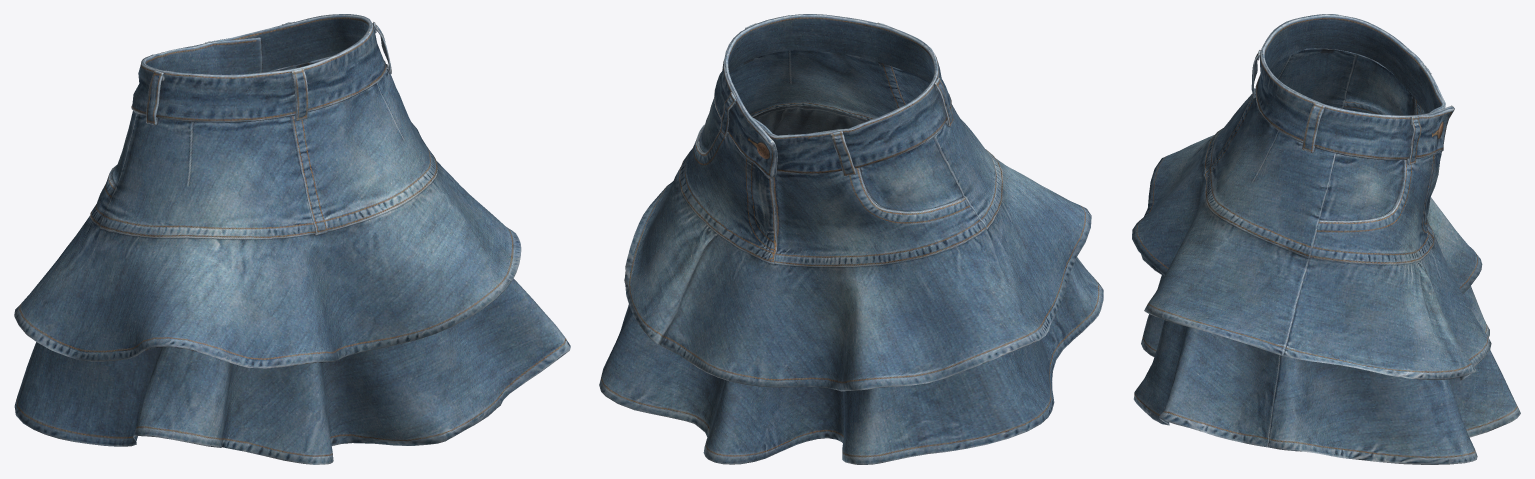
Rendered from jeans_skirt.glb.
3 views of the same model, side by side, from view 1: azimuth 30°, elevation 25°; view 2: azimuth 150°, elevation 25°; view 3: azimuth 270°, elevation 25° (orthographic). The views are drawn at different scales.
Visible parts, largest first — view 1: Object_2; view 2: Object_2; view 3: Object_2.
Part boxes in pixels (x1,y1,x2,y2): Object_2: [14, 14, 570, 464]; Object_2: [599, 14, 1103, 464]; Object_2: [1132, 14, 1520, 464].
Bounding box in the file's own units: 0.5958 × 0.468 × 0.4653.
Materials: 1 (1 with a texture image).
